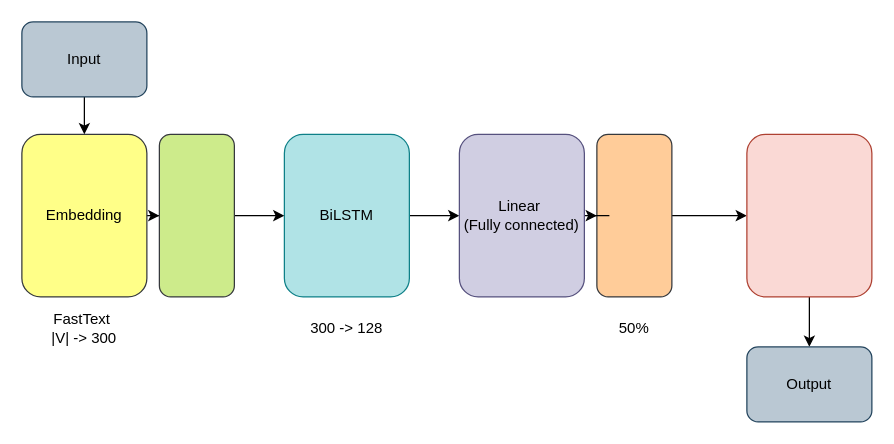
Image size: 894x444. Some labels were removed from this diagram. The shapes that lost their labels are listed below. From the top down, each one's centre as x and y in pixels, then its label:
At (196,215): "Layer norm".
At (634,215): "Dropout".
At (809,215): "CRF".
